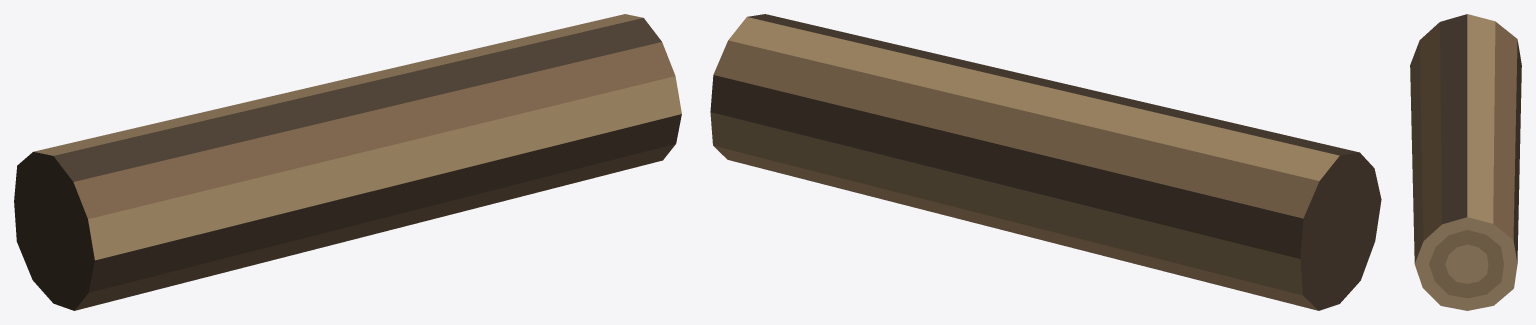
Rendered from TW_LOG_CUT_2M_A_LOD0.glb.
3 renders of one model, left to right at view 1: azimuth 30°, elevation 25°; view 2: azimuth 150°, elevation 25°; view 3: azimuth 270°, elevation 25°, orthographic. The views are drawn at different scales.
Parts seen in each view (by area): view 1: TW_LOG_CUT_2M_A_LOD0; view 2: TW_LOG_CUT_2M_A_LOD0; view 3: TW_LOG_CUT_2M_A_LOD0.
Boxes of the visible parts, x1,y1,x2,y2 form: TW_LOG_CUT_2M_A_LOD0: (14,14,681,310); TW_LOG_CUT_2M_A_LOD0: (710,14,1381,310); TW_LOG_CUT_2M_A_LOD0: (1410,14,1521,310).
Bounding box in the file's own units: 2 × 0.478 × 0.4747.
Materials: 1 (1 with a texture image).
